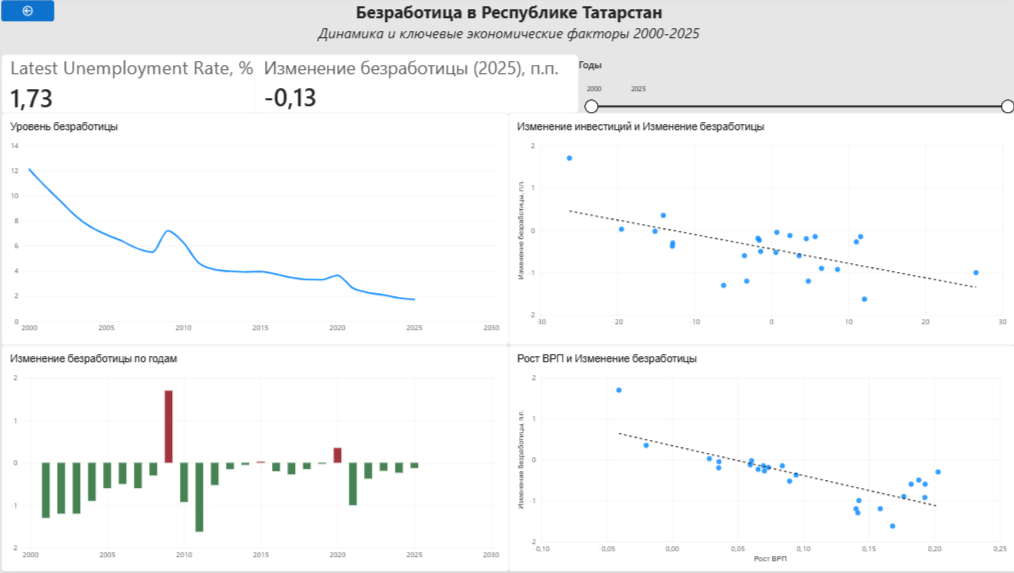

Layout of this report page (visuals, bound fields, positions):
{"tool":"powerbi","page":{"name":"Страница 1","canvas":[1920,1080],"ordinal":0},"visuals":[{"type":"cardVisual","fields":{"Data":["public unemployment_analytics.Latest Unemployment Rate"]},"box":[0,101.2,511.6,112.7],"z":0},{"type":"cardVisual","fields":{"Data":["public unemployment_analytics.Latest Unemployment Change"]},"box":[479.8,101.2,612.7,112.7],"z":1000},{"type":"lineChart","title":"Уровень безработицы","fields":{"Category":["public unemployment_analytics.year"],"Y":["Sum(public unemployment_analytics.unemployment_rate)"]},"box":[0,213.9,959.5,439.3],"z":2000},{"type":"scatterChart","title":"Изменение инвестиций и Изменение безработицы","fields":{"Category":["public unemployment_analytics.year"],"X":["Sum(public unemployment_analytics.investment_diff)"],"Y":["Sum(public unemployment_analytics.unemployment_diff)"]},"box":[959.5,213.9,959.5,439.3],"z":3000},{"type":"actionButton","box":[0,0,100,40],"z":4000},{"type":"scatterChart","title":"Рост ВРП и Изменение безработицы","fields":{"Category":["public unemployment_analytics.year"],"X":["Sum(public unemployment_analytics.grp_log_growth)"],"Y":["Sum(public unemployment_analytics.unemployment_diff)"]},"box":[959.5,653.2,959.5,427.7],"z":5000},{"type":"slicer","title":"Годы","fields":{"Values":["public unemployment_analytics.year"]},"box":[1092.5,106.9,826.6,106.9],"z":6000},{"type":"clusteredColumnChart","title":"Изменение безработицы по годам","fields":{"Category":["public unemployment_analytics.year"],"Y":["Sum(public unemployment_analytics.unemployment_diff)"]},"box":[0,653.2,959.5,427.7],"z":7000},{"type":"textbox","box":[101.2,294.8,297.7,104],"z":8000},{"type":"textbox","box":[0,0,1919.1,101.2],"z":9000}]}

Visuals, with their boxes in screenshot pixels (x1, y1, x2, y2), scaled from the page's 1920x1080 canvas onto the 1014x573 screenshot:
cardVisual - public unemployment_analytics.Latest Unemployment Rate: [0,54,270,113]
cardVisual - public unemployment_analytics.Latest Unemployment Change: [253,54,577,113]
"Уровень безработицы" lineChart: [0,113,507,347]
"Изменение инвестиций и Изменение безработицы" scatterChart: [507,113,1013,347]
actionButton: [0,0,53,21]
"Рост ВРП и Изменение безработицы" scatterChart: [507,347,1013,572]
"Годы" slicer: [577,57,1013,113]
"Изменение безработицы по годам" clusteredColumnChart: [0,347,507,572]
textbox: [53,156,211,212]
textbox: [0,0,1013,54]
